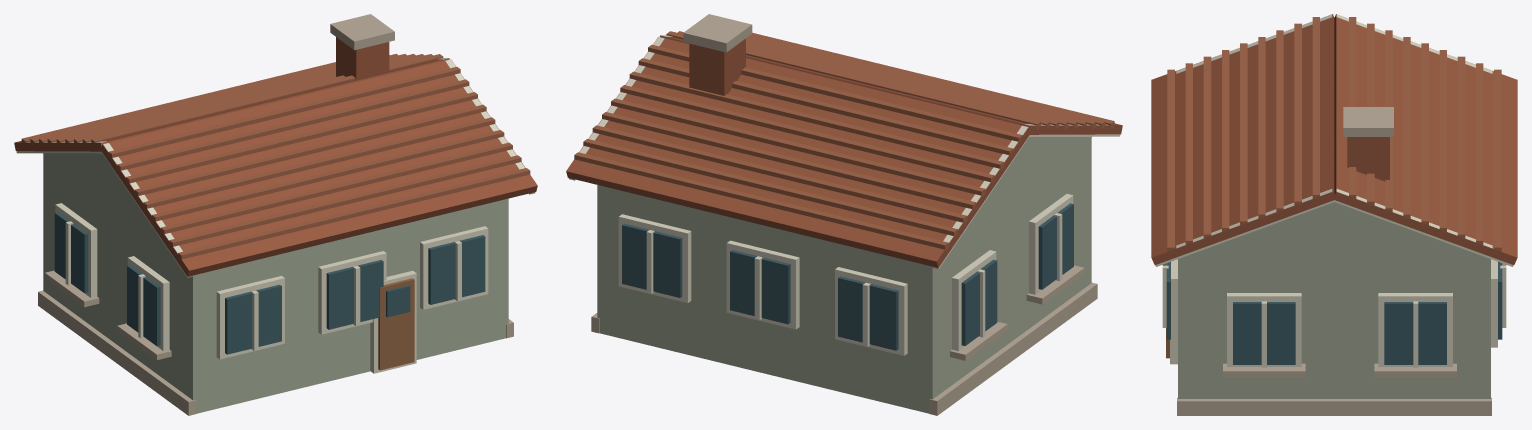
File: neighbor-cottage.glb
3 views of the same model, side by side, from view 1: azimuth 30°, elevation 25°; view 2: azimuth 150°, elevation 25°; view 3: azimuth 270°, elevation 25° (orthographic). The views are drawn at different scales.
Visible parts, largest first — view 1: Rendered house, Clay pitched roof.001, Masonry footing, Recessed glazing.001, Recessed glazing.005, Overlapping tile courses.010, Overlapping tile courses.009, Overlapping tile courses.015, Recessed glazing.003, Overlapping tile courses.012, Overlapping tile courses.017, Overlapping tile courses.011 (+30 smaller); view 2: Rendered house, Clay pitched roof, Masonry footing, Recessed glazing, Recessed glazing.004, Recessed glazing.002, Overlapping tile courses.006, Overlapping tile courses.004, Overlapping tile courses.007, Overlapping tile courses.008, Overlapping tile courses.005, Overlapping tile courses.003 (+30 smaller); view 3: Rendered house, Clay pitched roof.001, Clay pitched roof, Plastered gable end.001, Masonry footing.001, Garden-facing sash glazing.002, Garden-facing sash glazing.003, Overlapping tile courses.015, Overlapping tile courses.006, Garden-facing window casing.002, Garden-facing window casing.003, Clay chimney stack (+29 smaller).
Part boxes in pixels (bbox=[...]): Rendered house: bbox=[43, 154, 508, 413]; Clay pitched roof.001: bbox=[101, 59, 537, 276]; Masonry footing: bbox=[38, 290, 195, 415]; Recessed glazing.001: bbox=[225, 284, 281, 354]; Recessed glazing.005: bbox=[428, 235, 485, 304]; Overlapping tile courses.010: bbox=[117, 79, 469, 171]; Overlapping tile courses.009: bbox=[108, 67, 460, 158]; Overlapping tile courses.015: bbox=[160, 142, 512, 234]; Recessed glazing.003: bbox=[326, 260, 383, 329]; Overlapping tile courses.012: bbox=[134, 104, 486, 196]; Overlapping tile courses.017: bbox=[178, 168, 530, 259]; Overlapping tile courses.011: bbox=[126, 92, 477, 184]; Rendered house: bbox=[597, 137, 1091, 413]; Clay pitched roof: bbox=[566, 37, 1029, 267]; Masonry footing: bbox=[929, 282, 1097, 415]; Recessed glazing: bbox=[838, 276, 898, 350]; Recessed glazing.004: bbox=[622, 223, 682, 297]; Recessed glazing.002: bbox=[730, 250, 790, 324]; Overlapping tile courses.006: bbox=[592, 125, 967, 223]; Overlapping tile courses.004: bbox=[611, 98, 985, 196]; Overlapping tile courses.007: bbox=[583, 139, 957, 237]; Overlapping tile courses.008: bbox=[574, 152, 948, 250]; Overlapping tile courses.005: bbox=[602, 112, 976, 209]; Overlapping tile courses.003: bbox=[620, 85, 994, 182]; Rendered house: bbox=[1178, 254, 1490, 398]; Clay pitched roof.001: bbox=[1151, 14, 1335, 264]; Clay pitched roof: bbox=[1333, 14, 1517, 264]; Plastered gable end.001: bbox=[1193, 202, 1475, 253]; Masonry footing.001: bbox=[1177, 397, 1491, 415]; Garden-facing sash glazing.002: bbox=[1384, 302, 1446, 364]; Garden-facing sash glazing.003: bbox=[1233, 302, 1295, 364]; Overlapping tile courses.015: bbox=[1203, 56, 1211, 239]; Overlapping tile courses.006: bbox=[1457, 56, 1465, 239]; Garden-facing window casing.002: bbox=[1378, 293, 1452, 366]; Garden-facing window casing.003: bbox=[1227, 293, 1301, 366]; Clay chimney stack: bbox=[1347, 137, 1389, 181].
Bounding box in the file's own units: 8.4 × 5.91 × 7.31.
